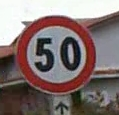limite 50: (14, 14, 96, 96)
